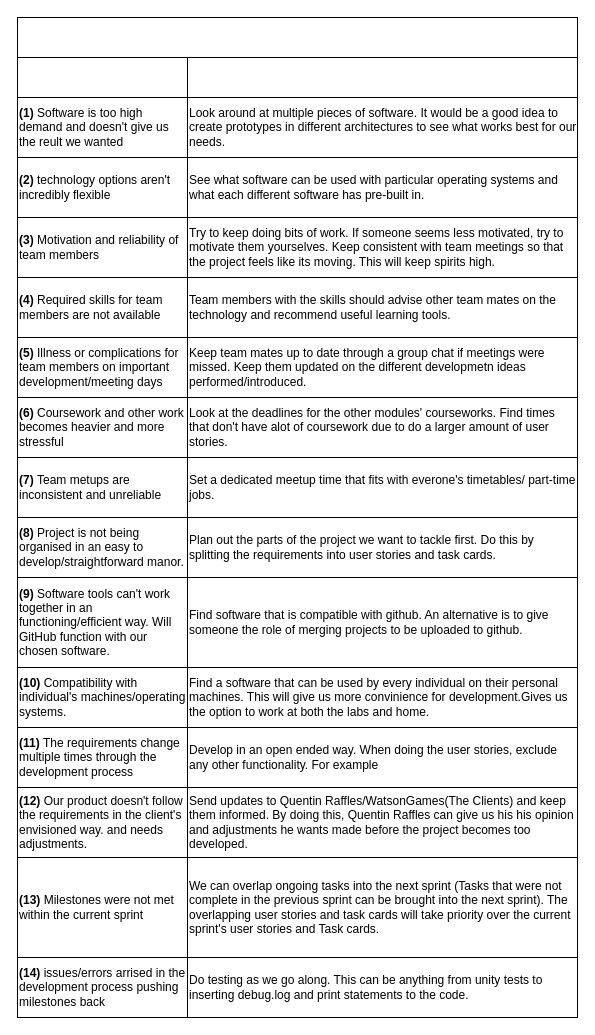
This 595x1035 diagram has some shape labels left out. The centre of each missing label's shape, as x and y in pixels:
Risk: pixel 102 77
Risk Management Strategies: pixel 297 37
Strategy: pixel 382 77
